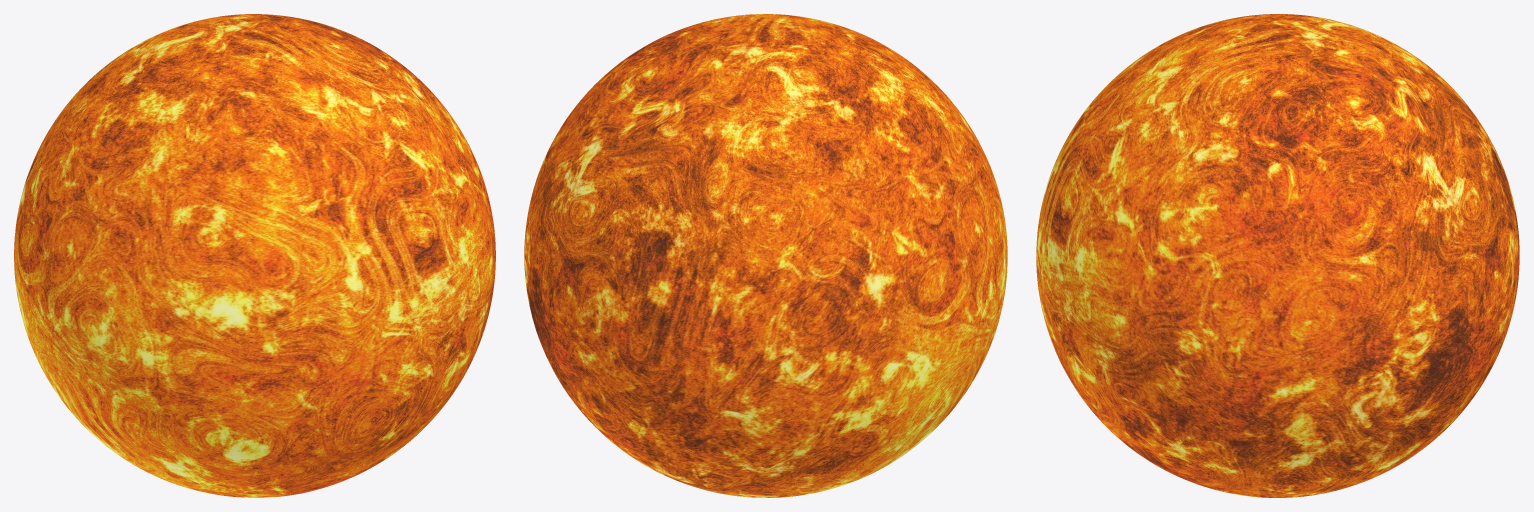
The model's file is sun-transformed.glb.
3 views of the same model, side by side, from view 1: azimuth 30°, elevation 25°; view 2: azimuth 150°, elevation 25°; view 3: azimuth 270°, elevation 25° (orthographic).
Visible parts, largest first — view 1: Planeta.009_09.Sun_0; view 2: Planeta.009_09.Sun_0; view 3: Planeta.009_09.Sun_0.
Part boxes in pixels (x1,y1,x2,y2): Planeta.009_09.Sun_0: [14, 14, 495, 497]; Planeta.009_09.Sun_0: [524, 14, 1007, 497]; Planeta.009_09.Sun_0: [1036, 14, 1519, 497].
Size of what is drawn, in the model's own units: 19 by 19.06 by 19.01.
Materials: 1 (1 with a texture image).
